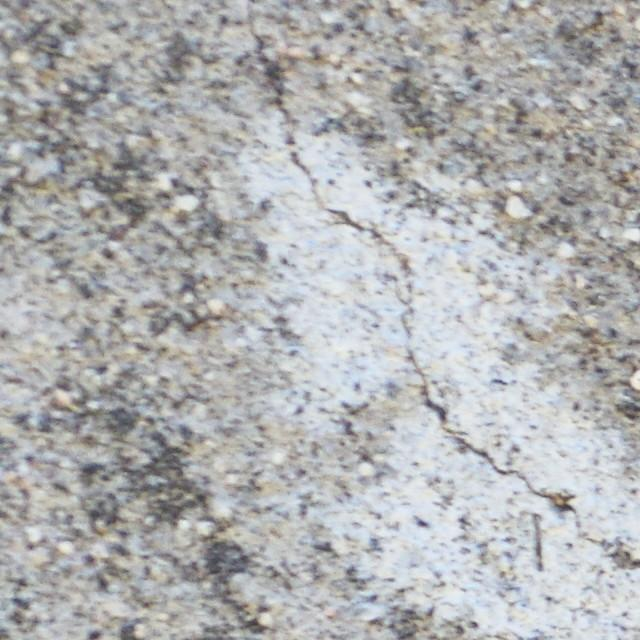diagonal crack: (246, 0, 639, 566)
